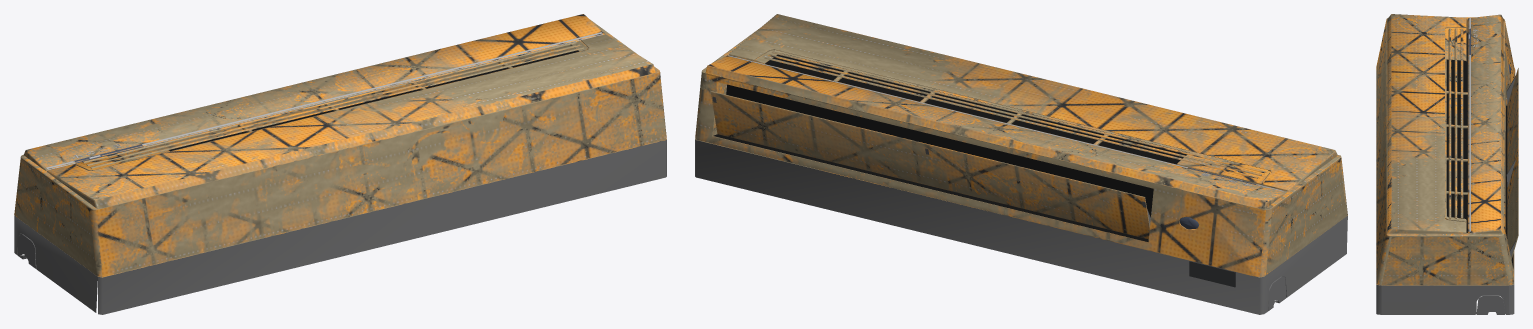
3 views of the same model, side by side, from view 1: azimuth 30°, elevation 25°; view 2: azimuth 150°, elevation 25°; view 3: azimuth 270°, elevation 25° (orthographic). The views are drawn at different scales.
Parts seen in each view (by area): view 1: conditione (×4); view 2: conditione (×5); view 3: conditione (×4).
Boxes of the visible parts, bbox=[...] form: conditione (×4): bbox=[14, 14, 666, 314]; conditione (×5): bbox=[695, 14, 1347, 314]; conditione (×4): bbox=[1376, 14, 1518, 314].
Bounding box in the file's own units: 2.23 × 0.4001 × 0.6097.
9 materials, 9 textured.
